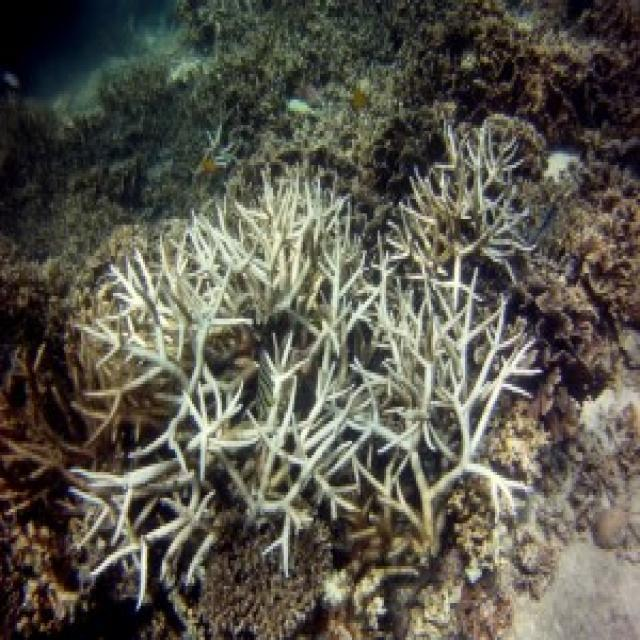Bleached: (69, 112, 544, 609)
Healthy: (535, 4, 640, 344), (2, 276, 97, 640), (213, 523, 333, 640), (404, 9, 531, 113), (576, 389, 640, 454)
